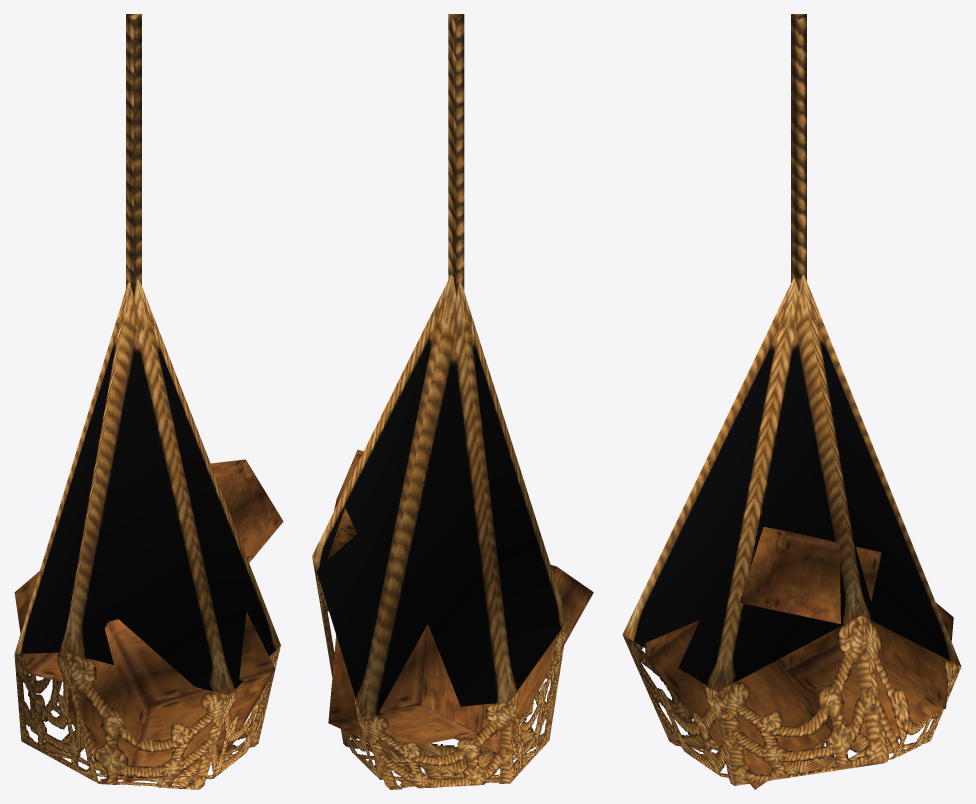
Rendered from deadminecargonethangshort.obj.
The picture shows the model from 3 angles, left to right: view 1: azimuth 30°, elevation 25°; view 2: azimuth 150°, elevation 25°; view 3: azimuth 270°, elevation 25°; orthographic projection.
Visible parts, largest first — view 1: 1, 0; view 2: 1, 0; view 3: 1, 0.
Boxes of the visible parts, bbox=[...] form: 1: bbox=[14, 280, 280, 695]; 0: bbox=[14, 14, 283, 789]; 1: bbox=[312, 274, 567, 716]; 0: bbox=[312, 14, 593, 789]; 1: bbox=[622, 275, 961, 691]; 0: bbox=[623, 14, 961, 789].
Bounding box in the file's own units: 2.34 × 7.56 × 3.06.
2 materials, 2 textured.
